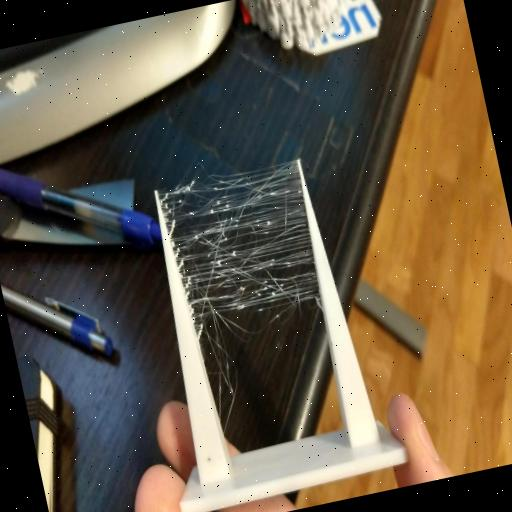stringing: (156, 155, 321, 446)
